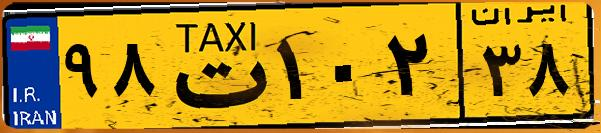0: (330, 28, 385, 110)
1: (270, 28, 330, 110)
2: (385, 28, 445, 110)
3: (475, 38, 525, 113)
8: (525, 38, 570, 115), (110, 28, 158, 98)
9: (57, 26, 110, 100)
ت: (158, 12, 270, 120)
